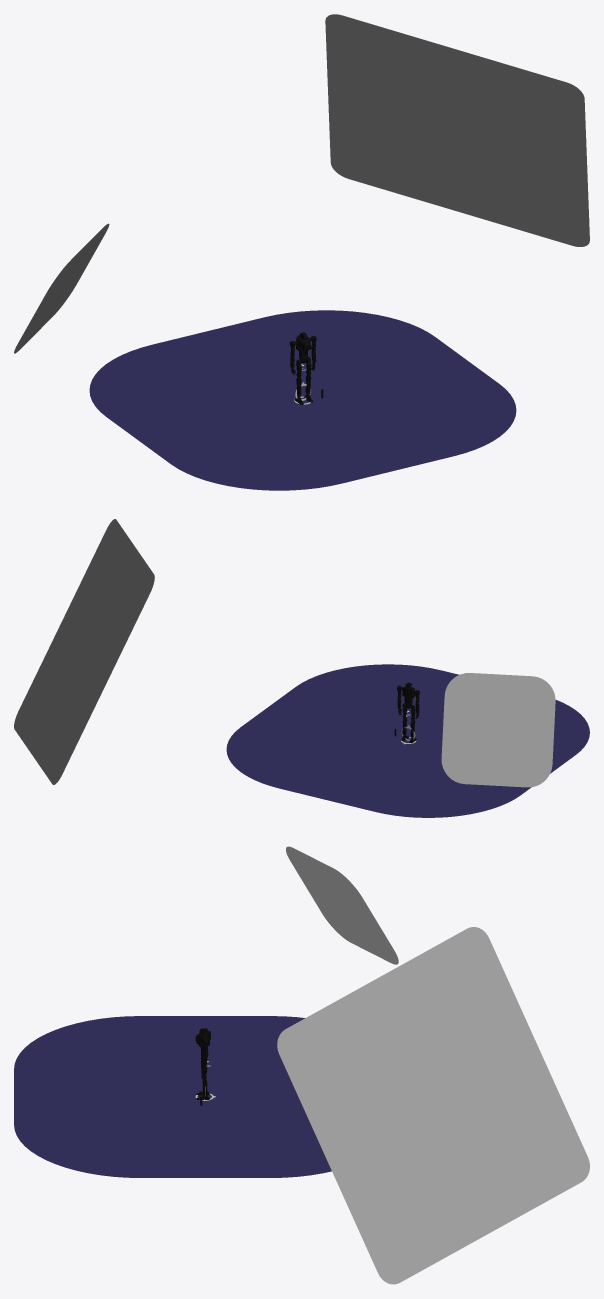
Rendered from battle-mech.obj.
3 views of the same model, one above another, from view 1: azimuth 30°, elevation 25°; view 2: azimuth 150°, elevation 25°; view 3: azimuth 270°, elevation 25° (orthographic). The views are drawn at different scales.
Parts seen in each view (by area): view 1: Cube._lights_Cube.001, Battleframe_Cube.004; view 2: Cube._lights_Cube.001, Battleframe_Cube.004; view 3: Cube._lights_Cube.001, Battleframe_Cube.004.
Boxes of the visible parts, x1=… form: Cube._lights_Cube.001: x1=14, y1=14, x2=589, y2=490; Battleframe_Cube.004: x1=289, y1=332, x2=316, y2=404; Cube._lights_Cube.001: x1=14, y1=519, x2=589, y2=817; Battleframe_Cube.004: x1=397, y1=682, x2=419, y2=743; Cube._lights_Cube.001: x1=14, y1=846, x2=589, y2=1284; Battleframe_Cube.004: x1=195, y1=1028, x2=210, y2=1099.
Bounding box in the file's own units: 144 × 58.41 × 118.
